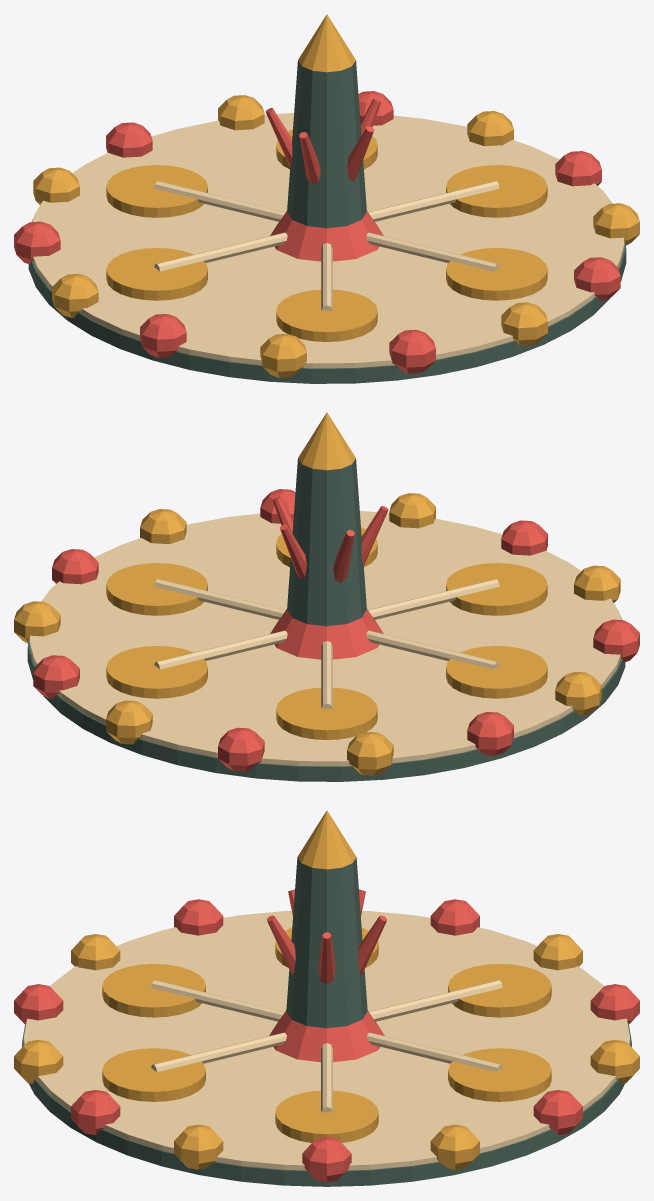
Rendered from ParkParkSeahorseHub.obj.
3 views of the same model, one above another, from view 1: azimuth 30°, elevation 25°; view 2: azimuth 150°, elevation 25°; view 3: azimuth 270°, elevation 25° (orthographic).
Parts seen in each view (by area): view 1: ParkParkSeahorseHub; view 2: ParkParkSeahorseHub; view 3: ParkParkSeahorseHub.
Part boxes in pixels (bbox=[...]): ParkParkSeahorseHub: bbox=[14, 14, 639, 383]; ParkParkSeahorseHub: bbox=[14, 412, 639, 781]; ParkParkSeahorseHub: bbox=[14, 810, 639, 1186].
Bounding box in the file's own units: 17.33 × 7.4 × 16.93.
